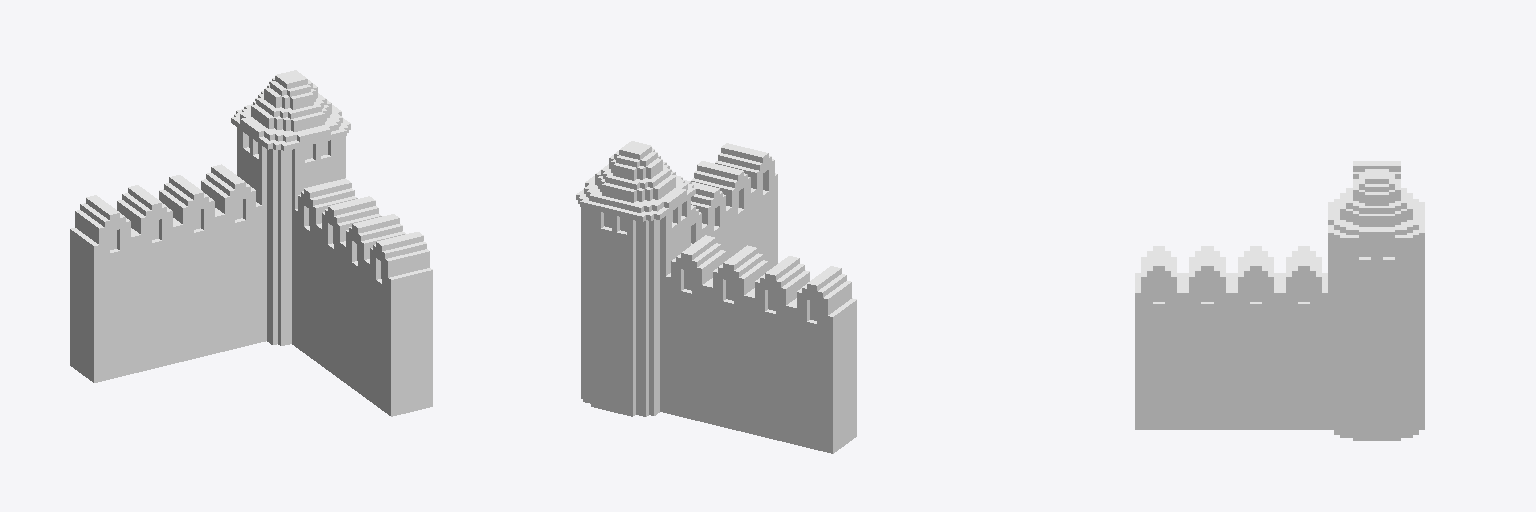
File: Castle_Tower.obj
3 views of the same model, side by side, from view 1: azimuth 30°, elevation 25°; view 2: azimuth 150°, elevation 25°; view 3: azimuth 270°, elevation 25° (orthographic).
Parts seen in each view (by area): view 1: object 1; view 2: object 1; view 3: object 1.
Boxes of the visible parts, box(x1,y1,x2,y2) form: object 1: box(70, 70, 432, 416); object 1: box(576, 141, 856, 453); object 1: box(1135, 161, 1424, 440).
Size of the model in its own units: 4.8 by 4.5 by 4.8.